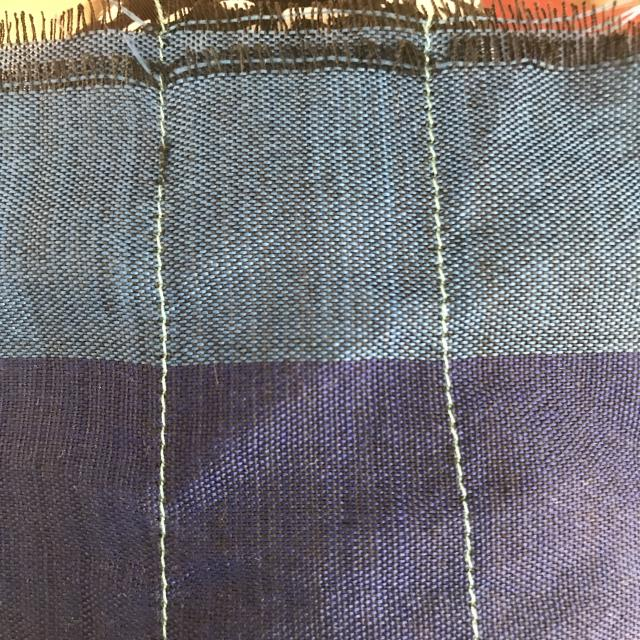good: (439, 411, 494, 613), (148, 388, 182, 589), (145, 223, 190, 349)
